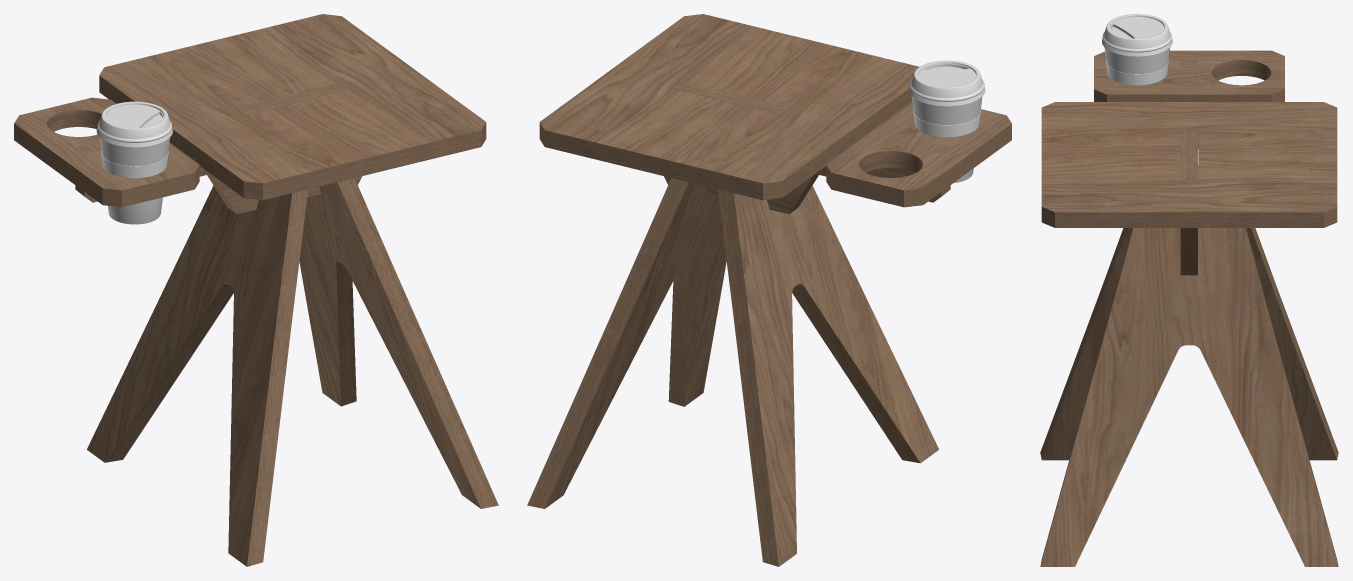
File: stool-rebuild.glb
3 renders of one model, left to right at view 1: azimuth 30°, elevation 25°; view 2: azimuth 150°, elevation 25°; view 3: azimuth 270°, elevation 25°, orthographic. The views are drawn at different scales.
Parts seen in each view (by area): view 1: Plane.001, Plane.004, Plane.003, Plane.002, Cylinder, Plane, Cylinder.001; view 2: Plane.001, Plane.004, Plane.003, Plane.002, Cylinder, Plane, Cylinder.001; view 3: Plane.003, Plane.001, Plane.004, Plane.002, Cylinder, Plane, Cylinder.001.
Part boxes in pixels (x1,y1,x2,y2): Plane.001: (99, 14, 486, 200); Plane.004: (87, 185, 308, 566); Plane.003: (299, 178, 498, 508); Plane.002: (14, 97, 199, 207); Cylinder: (96, 101, 172, 224); Plane: (75, 82, 362, 214); Cylinder.001: (101, 151, 168, 178); Plane.001: (539, 14, 919, 200); Plane.004: (718, 185, 938, 566); Plane.003: (527, 178, 726, 508); Plane.002: (826, 102, 1011, 207); Cylinder: (909, 60, 985, 182); Plane: (664, 82, 950, 214); Cylinder.001: (913, 110, 980, 137); Plane.003: (1040, 173, 1338, 566); Plane.001: (1041, 102, 1337, 227); Plane.004: (1040, 165, 1338, 460); Plane.002: (1094, 50, 1284, 101); Cylinder: (1102, 14, 1172, 73); Plane: (1180, 60, 1197, 275); Cylinder.001: (1106, 61, 1168, 85).
Size of the model in its own units: 0.4458 by 0.5061 by 0.3435.
Materials: 4 (2 with a texture image).
